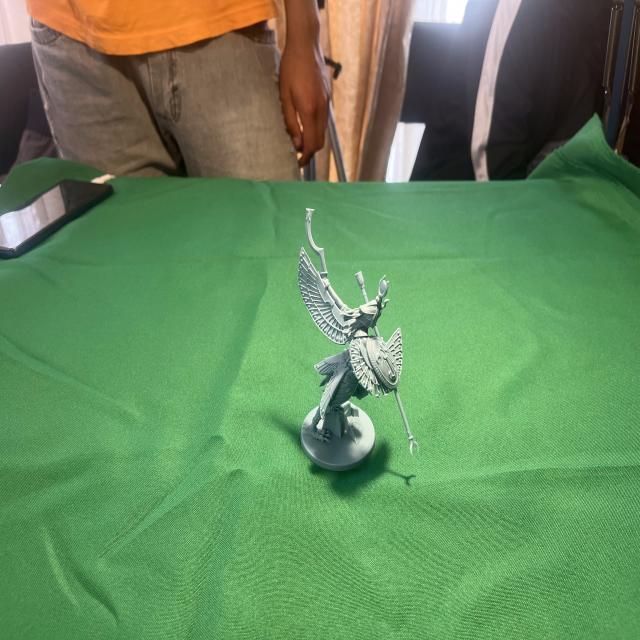isis: (285, 195, 428, 495)
